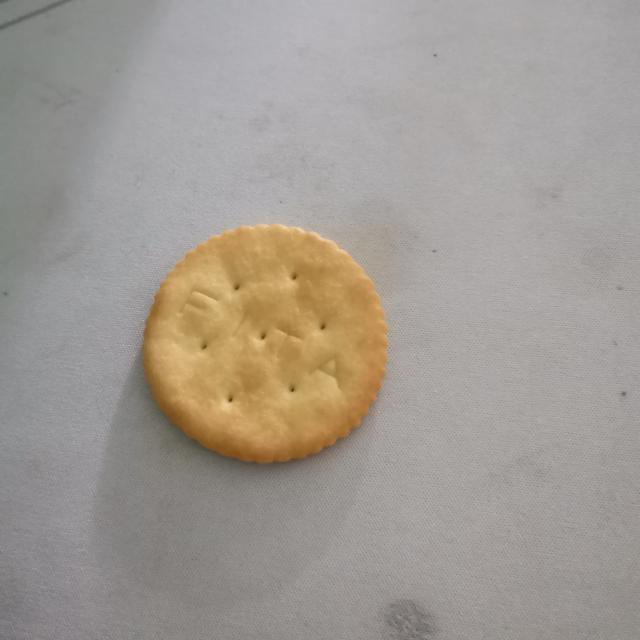Intact: (131, 217, 394, 479)
